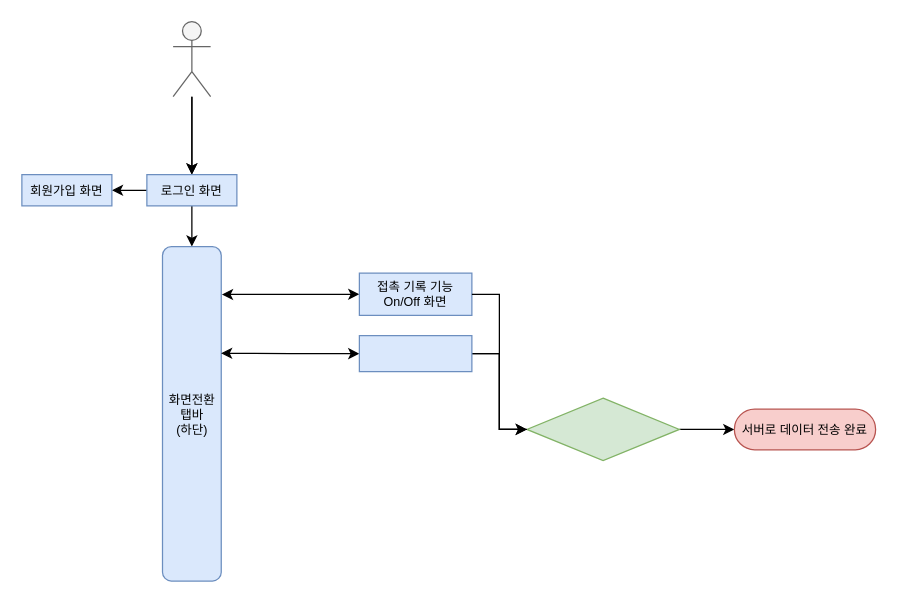
The diagram is 898 pixels wide and 604 high, and some of its shapes have lost their labels. Here are the shapes that lost their labels. From the top down, the centre of each, then its label:
At pixel 191 58: "사용자".
At pixel 415 353: "확진 정보 등록 화면".
At pixel 602 429: "JWT ⁽ ¹ ⁾ 유효?".
